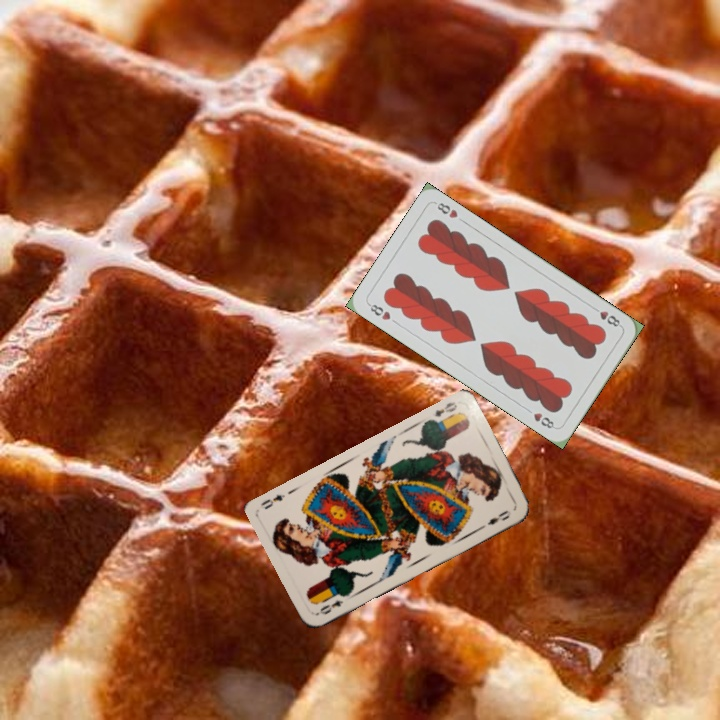EO: (313, 596, 346, 617), (431, 397, 460, 420)
H8: (588, 303, 624, 330), (364, 300, 393, 323)
